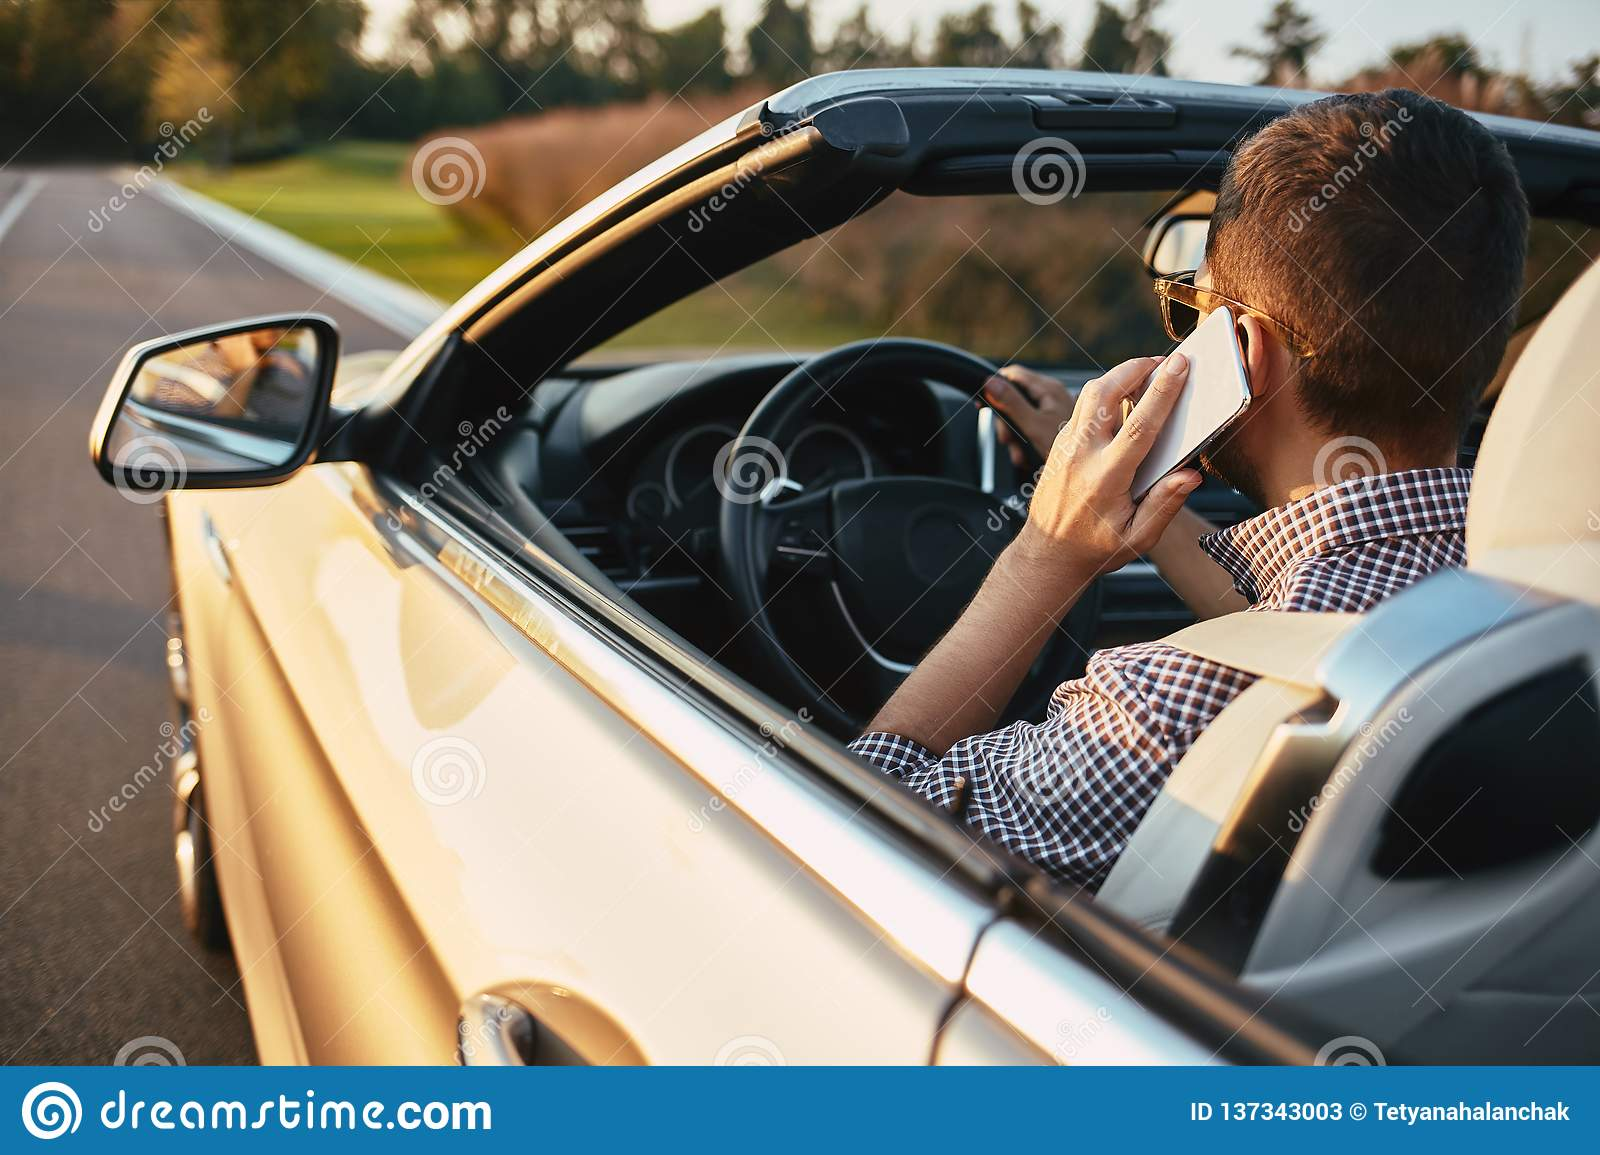phone: (1116, 307, 1253, 504)
